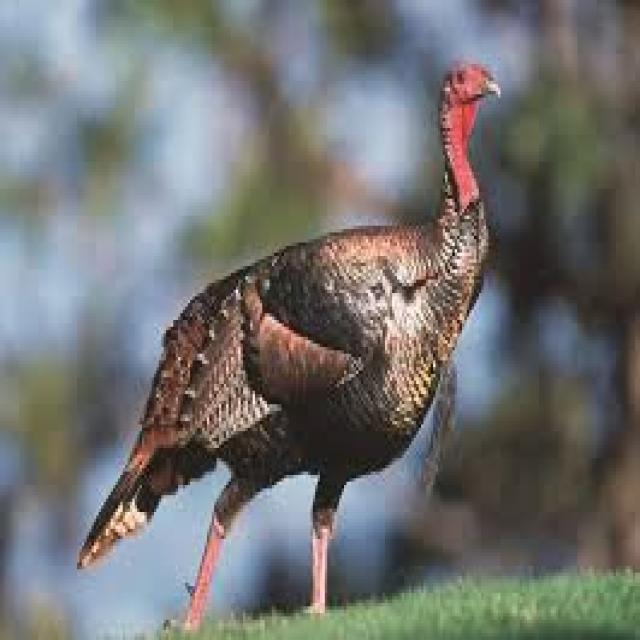Turkey: (69, 30, 522, 638)
